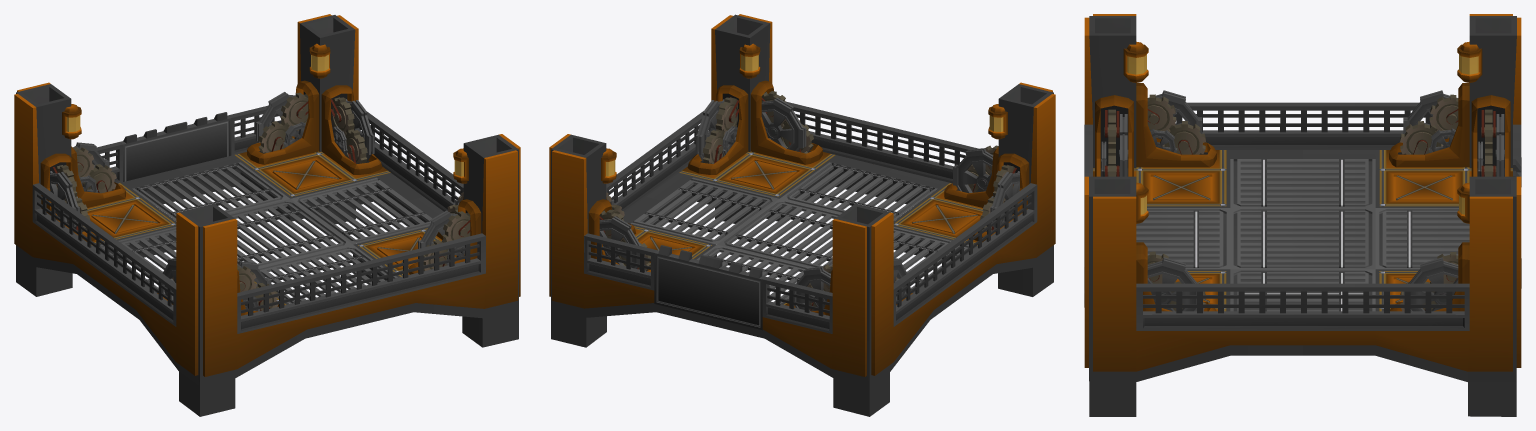
Rendered from Asset_Ascensor.fbx.
The picture shows the model from 3 angles, left to right: view 1: azimuth 30°, elevation 25°; view 2: azimuth 150°, elevation 25°; view 3: azimuth 270°, elevation 25°; orthographic projection. The views are drawn at different scales.
Parts seen in each view (by area): view 1: Esctructura_Ascensor, estructura (×5), puerta_Ascensor, engranaje_metal_grande (×4), engranaje_bronce_2 (×3), engranaje_bronce (×3), carcaza, Luz; view 2: Esctructura_Ascensor, puerta_Ascensor, engranaje_metal_grande (×6), estructura (×5), carcaza, Luz, engranaje_bronce_2, engranaje_bronce; view 3: Esctructura_Ascensor, estructura (×6), engranaje_metal_grande (×6), engranaje_bronce (×2), carcaza, engranaje_bronce_2 (×2), Luz.
Part boxes in pixels (x1=…): Esctructura_Ascensor: x1=14, y1=14, x2=520, y2=416; estructura (×5): x1=40, y1=80, x2=481, y2=274; puerta_Ascensor: x1=120, y1=112, x2=231, y2=181; engranaje_metal_grande (×4): x1=50, y1=92, x2=466, y2=258; engranaje_bronce_2 (×3): x1=280, y1=92, x2=470, y2=248; engranaje_bronce (×3): x1=82, y1=121, x2=367, y2=193; carcaza: x1=62, y1=43, x2=468, y2=183; Luz: x1=66, y1=54, x2=463, y2=176; Esctructura_Ascensor: x1=549, y1=14, x2=1055, y2=416; puerta_Ascensor: x1=654, y1=245, x2=765, y2=330; engranaje_metal_grande (×6): x1=599, y1=97, x2=1019, y2=311; estructura (×5): x1=588, y1=80, x2=1029, y2=272; carcaza: x1=601, y1=43, x2=1007, y2=183; Luz: x1=606, y1=54, x2=1003, y2=176; engranaje_bronce_2: x1=715, y1=97, x2=737, y2=134; engranaje_bronce: x1=702, y1=129, x2=724, y2=163; Esctructura_Ascensor: x1=1084, y1=14, x2=1521, y2=416; estructura (×6): x1=1095, y1=83, x2=1510, y2=311; engranaje_metal_grande (×6): x1=1119, y1=90, x2=1504, y2=311; engranaje_bronce (×2): x1=1162, y1=121, x2=1443, y2=154; carcaza: x1=1123, y1=41, x2=1482, y2=223; engranaje_bronce_2 (×2): x1=1147, y1=94, x2=1458, y2=138; Luz: x1=1127, y1=54, x2=1478, y2=214.
Bounding box in the file's own units: 300 × 167 × 300.
